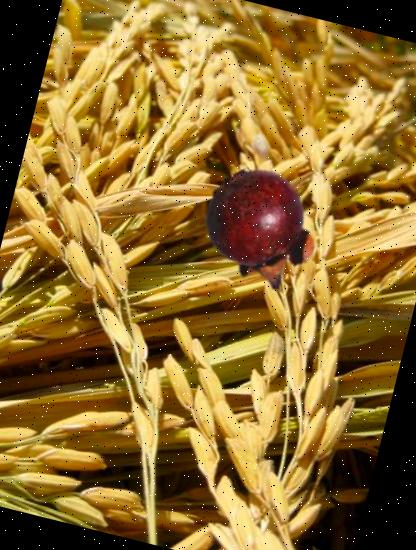Mangostan: (186, 156, 336, 306)
